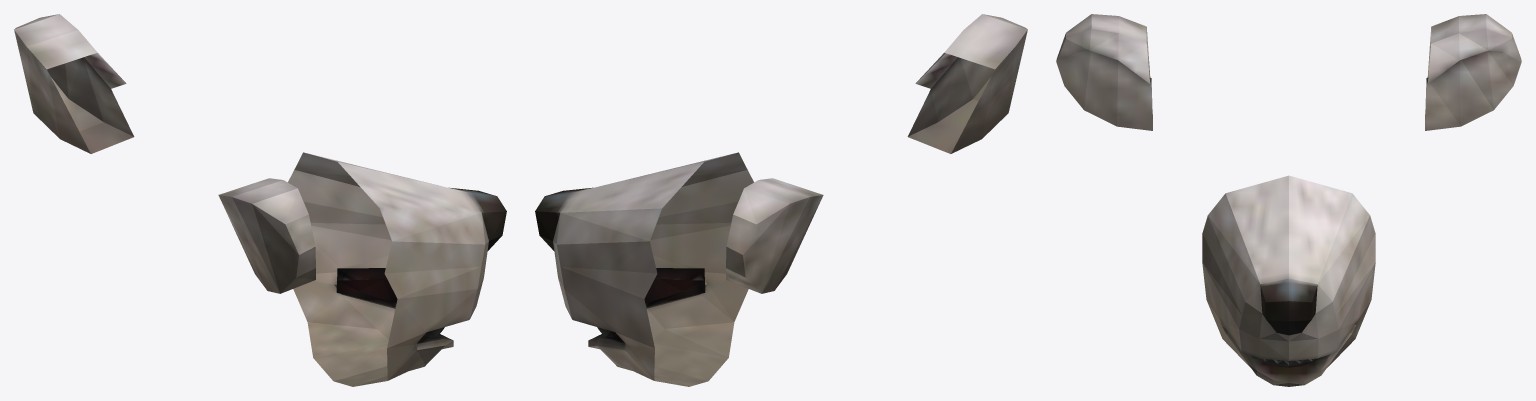
File: POLAR BEAR MASK.fbx
The picture shows the model from 3 angles, left to right: view 1: azimuth 30°, elevation 25°; view 2: azimuth 150°, elevation 25°; view 3: azimuth 270°, elevation 25°; orthographic projection. The views are drawn at different scales.
Parts seen in each view (by area): view 1: POLAR_BEAR_MASK; view 2: POLAR_BEAR_MASK; view 3: POLAR_BEAR_MASK.
Part boxes in pixels (<box>): POLAR_BEAR_MASK: <box>14,14,506,386</box>; POLAR_BEAR_MASK: <box>535,14,1027,386</box>; POLAR_BEAR_MASK: <box>1056,14,1521,386</box>.
Bounding box in the file's own units: 28.24 × 23.3 × 37.28.
